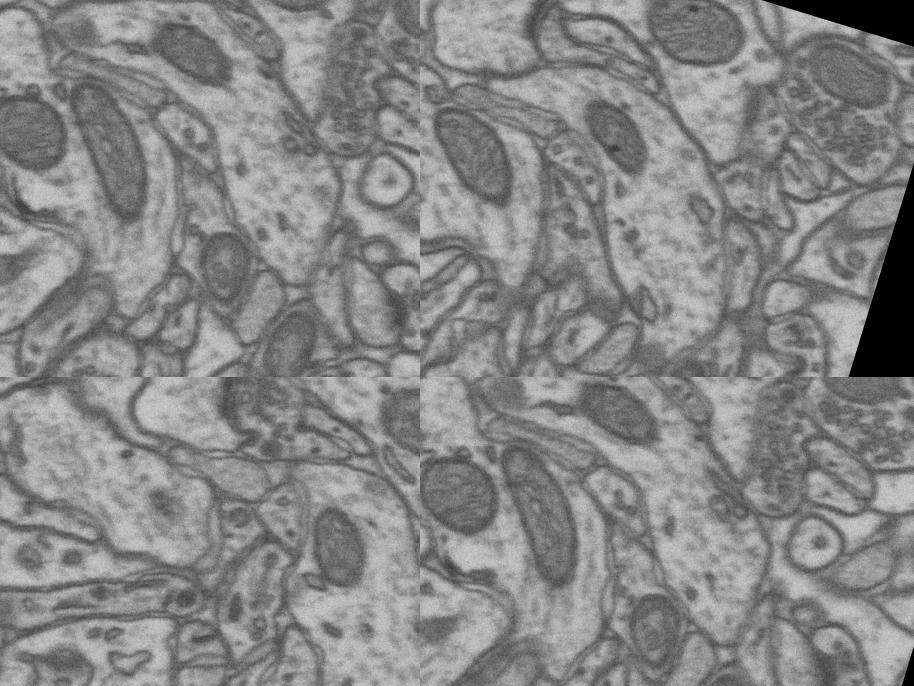mitochondria: (465, 432, 618, 604), (34, 70, 188, 234), (420, 89, 549, 227), (618, 0, 758, 85), (785, 21, 904, 118), (420, 438, 517, 554), (135, 7, 252, 103), (288, 492, 392, 598), (563, 87, 671, 185), (0, 76, 86, 185), (614, 580, 700, 682), (559, 377, 670, 455), (182, 219, 267, 312), (248, 294, 329, 377), (361, 377, 420, 477), (802, 377, 908, 420), (219, 0, 355, 27), (647, 336, 723, 377), (377, 0, 420, 58), (668, 662, 755, 686)
